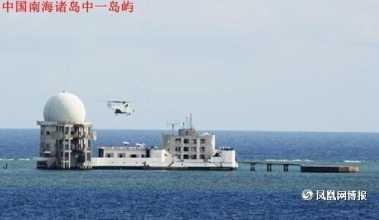airplane: (108, 98, 139, 121)
